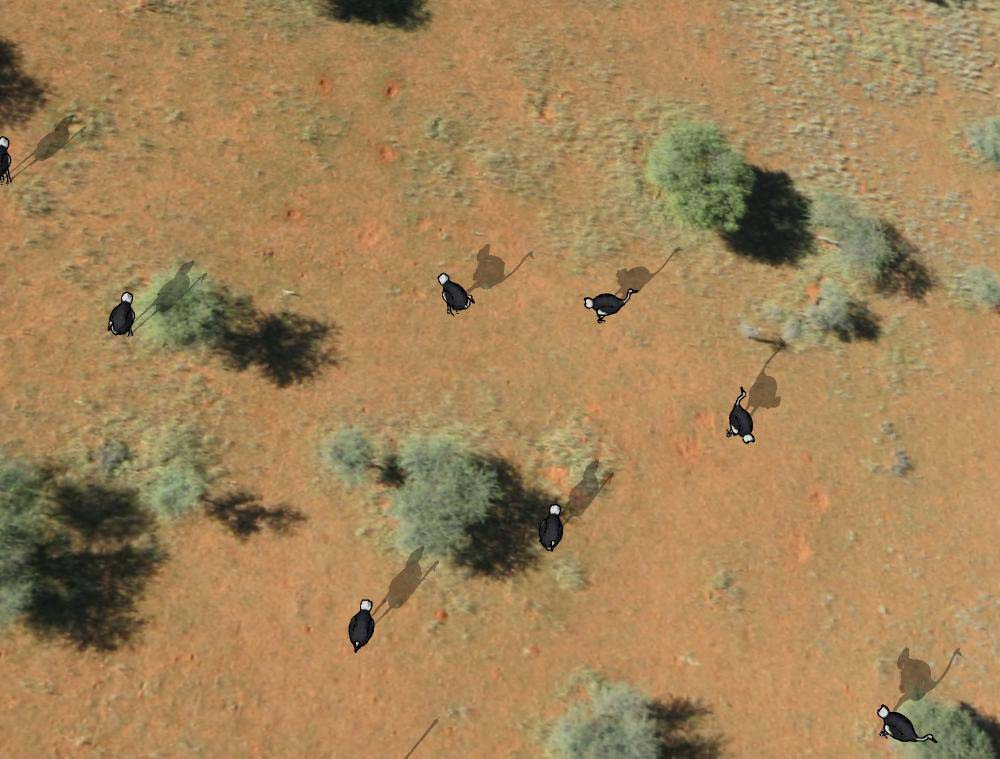ostrich: (876, 694, 937, 751), (578, 285, 638, 325), (342, 594, 379, 656), (725, 383, 759, 447), (435, 267, 476, 320), (101, 289, 142, 339), (538, 500, 564, 554), (1, 129, 12, 187)
